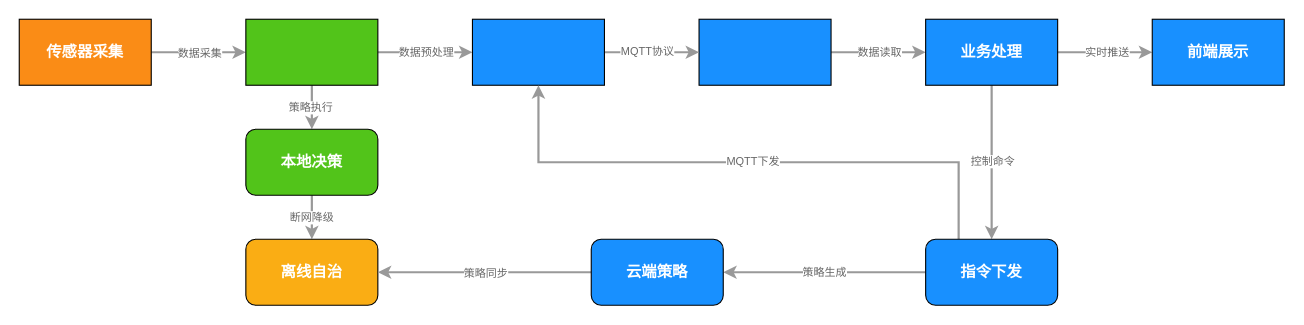
Some shapes in this 1304 by 325 pixel diagram are drawn without their labels. The shapes that lost their labels are listed below. From the top down, each one's centre as x and y in pixels, then its label:
At (311,51): "边缘预处理".
At (537,51): "MQTT上报".
At (764,51): "云端存储".
